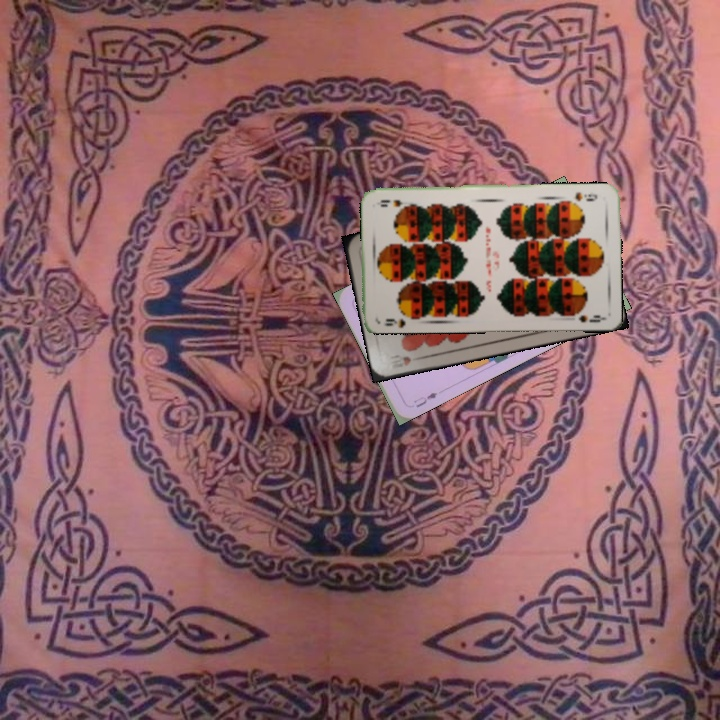EU: (409, 388, 440, 410)
H10: (385, 351, 425, 373)
S9: (571, 188, 600, 203), (381, 315, 408, 328)
